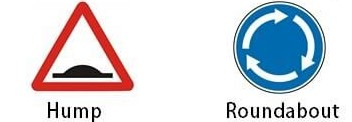Traffic signal: (29, 1, 136, 95), (231, 1, 327, 94)
